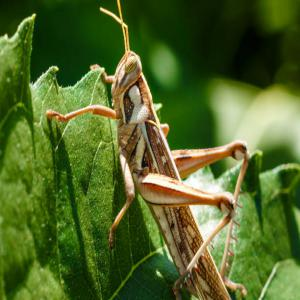locust: (92, 7, 277, 300)
